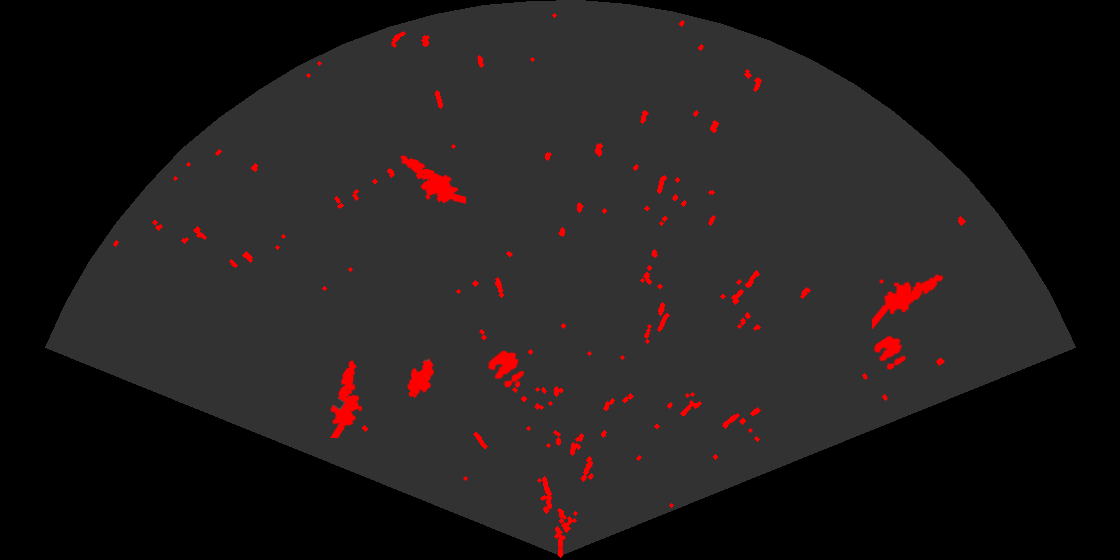AUV: (406, 357, 436, 400)
ball: (486, 349, 526, 389), (872, 334, 908, 372)
frogman: (872, 273, 945, 329), (399, 154, 466, 205), (329, 359, 364, 438)
